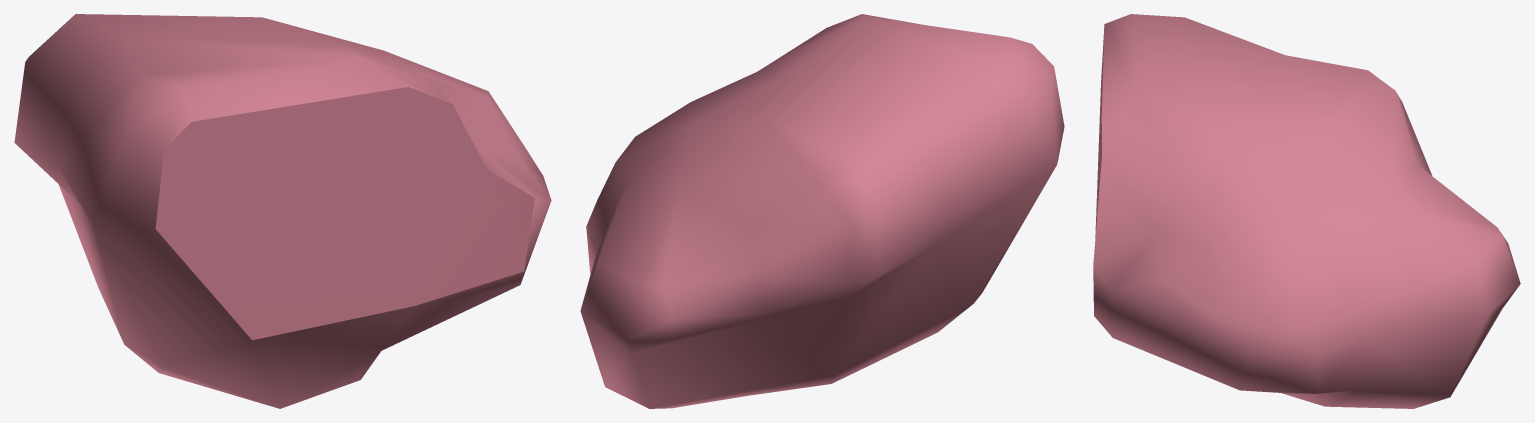
File: Rock_008.FBX
3 views of the same model, side by side, from view 1: azimuth 30°, elevation 25°; view 2: azimuth 150°, elevation 25°; view 3: azimuth 270°, elevation 25° (orthographic). The views are drawn at different scales.
Visible parts, largest first — view 1: Rock_008_LOD0; view 2: Rock_008_LOD0; view 3: Rock_008_LOD0.
Part boxes in pixels (<box>): Rock_008_LOD0: <box>14,14,551,408</box>; Rock_008_LOD0: <box>580,14,1064,408</box>; Rock_008_LOD0: <box>1093,14,1520,408</box>.
Bounding box in the file's own units: 84.52 × 82.55 × 61.59.
